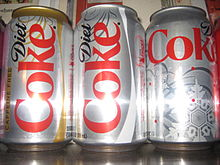can: (72, 3, 146, 155), (1, 5, 71, 156), (146, 4, 216, 152)
